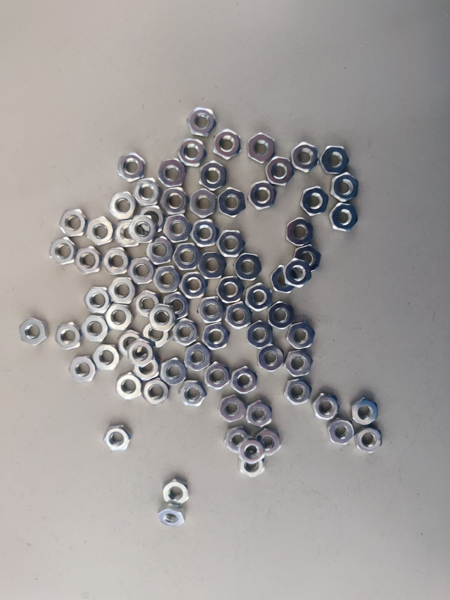nut: (187, 107, 217, 137), (330, 202, 359, 233), (265, 156, 294, 187), (248, 181, 277, 211), (118, 152, 146, 183), (49, 238, 78, 267), (331, 174, 361, 202), (162, 215, 192, 243), (190, 220, 220, 248), (197, 252, 227, 280), (178, 272, 208, 300), (87, 216, 115, 246), (214, 129, 241, 160), (249, 133, 275, 165), (300, 187, 328, 216), (283, 259, 312, 287), (178, 139, 207, 167), (158, 159, 186, 188), (20, 317, 48, 346), (161, 187, 190, 215), (133, 178, 161, 207), (199, 161, 226, 191), (219, 188, 246, 218), (190, 189, 217, 219), (216, 230, 246, 257), (172, 244, 202, 271), (292, 142, 318, 173), (321, 146, 349, 174), (129, 216, 157, 244), (74, 247, 102, 275), (286, 323, 315, 350), (286, 218, 313, 247), (216, 277, 245, 304), (233, 254, 262, 281), (104, 304, 133, 331), (146, 237, 173, 266), (102, 248, 131, 275), (203, 323, 230, 351), (197, 297, 225, 324), (81, 316, 109, 343), (109, 192, 136, 220), (178, 381, 207, 407), (246, 283, 272, 312), (219, 396, 246, 423), (83, 287, 110, 314), (109, 277, 136, 304), (153, 266, 180, 293), (313, 393, 339, 421), (224, 427, 250, 455), (160, 358, 186, 386), (149, 304, 175, 332), (55, 322, 81, 350), (60, 209, 86, 237), (128, 339, 153, 368), (191, 190, 216, 219), (104, 426, 131, 452), (285, 379, 312, 405), (286, 351, 313, 377), (231, 367, 257, 394), (69, 356, 95, 383), (93, 344, 120, 370), (295, 245, 321, 272), (128, 258, 154, 285), (246, 401, 271, 429), (247, 321, 272, 349), (268, 302, 293, 330), (173, 318, 198, 346), (184, 344, 209, 371), (270, 266, 295, 293), (142, 323, 169, 348), (117, 330, 142, 357), (164, 293, 189, 320), (115, 221, 140, 248), (205, 362, 229, 390), (227, 302, 251, 330), (356, 428, 382, 453), (116, 375, 141, 401), (353, 399, 377, 426), (259, 345, 283, 372), (157, 506, 186, 528), (240, 440, 265, 465), (143, 380, 168, 405), (135, 291, 159, 317), (140, 206, 163, 233), (329, 420, 354, 444), (256, 432, 281, 456), (163, 481, 188, 504), (240, 461, 265, 478), (134, 362, 158, 379)
